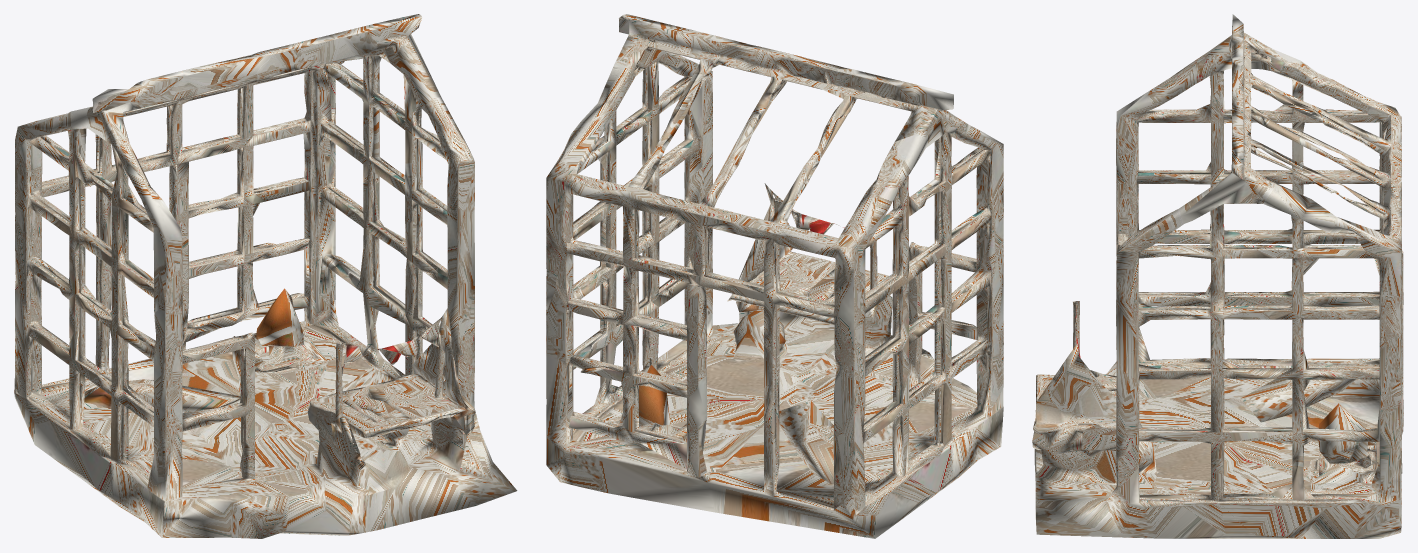
The model's file is sling_greenhouseFrame.glb.
3 renders of one model, left to right at view 1: azimuth 30°, elevation 25°; view 2: azimuth 150°, elevation 25°; view 3: azimuth 270°, elevation 25°, orthographic. The views are drawn at different scales.
Size of the model in its own units: 1.65 by 1.9 by 1.69.
Materials: 1 (1 with a texture image).
